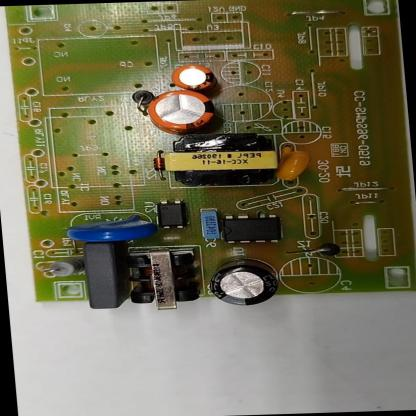Cap1: (145, 88, 216, 134)
Cap2: (172, 63, 214, 88)
Cap3: (208, 256, 276, 307)
MOSFET: (220, 214, 280, 245)
Mov: (65, 216, 151, 242)
Resistor: (44, 257, 85, 278)
Transformer: (160, 132, 280, 189), (129, 249, 198, 311)
